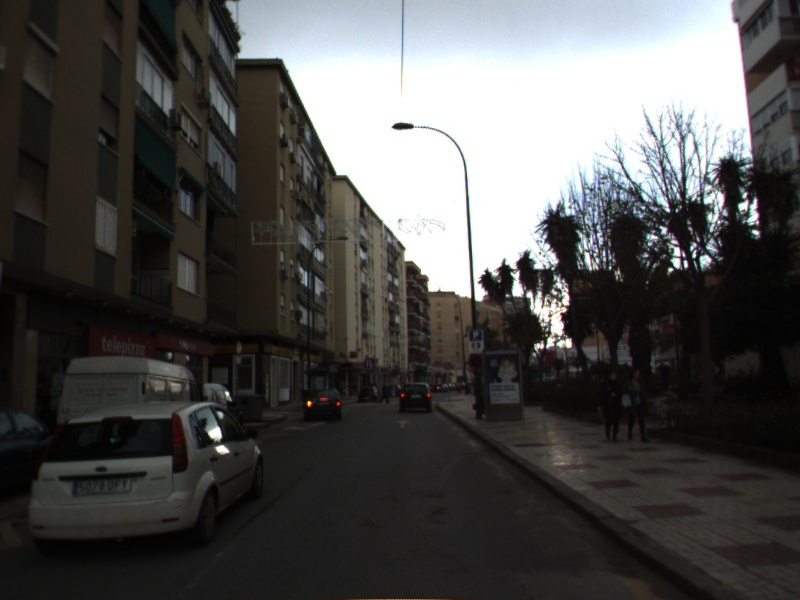STRAIGHT: (393, 418, 413, 430)
STRAIGHT_LEFT: (281, 419, 328, 433)
